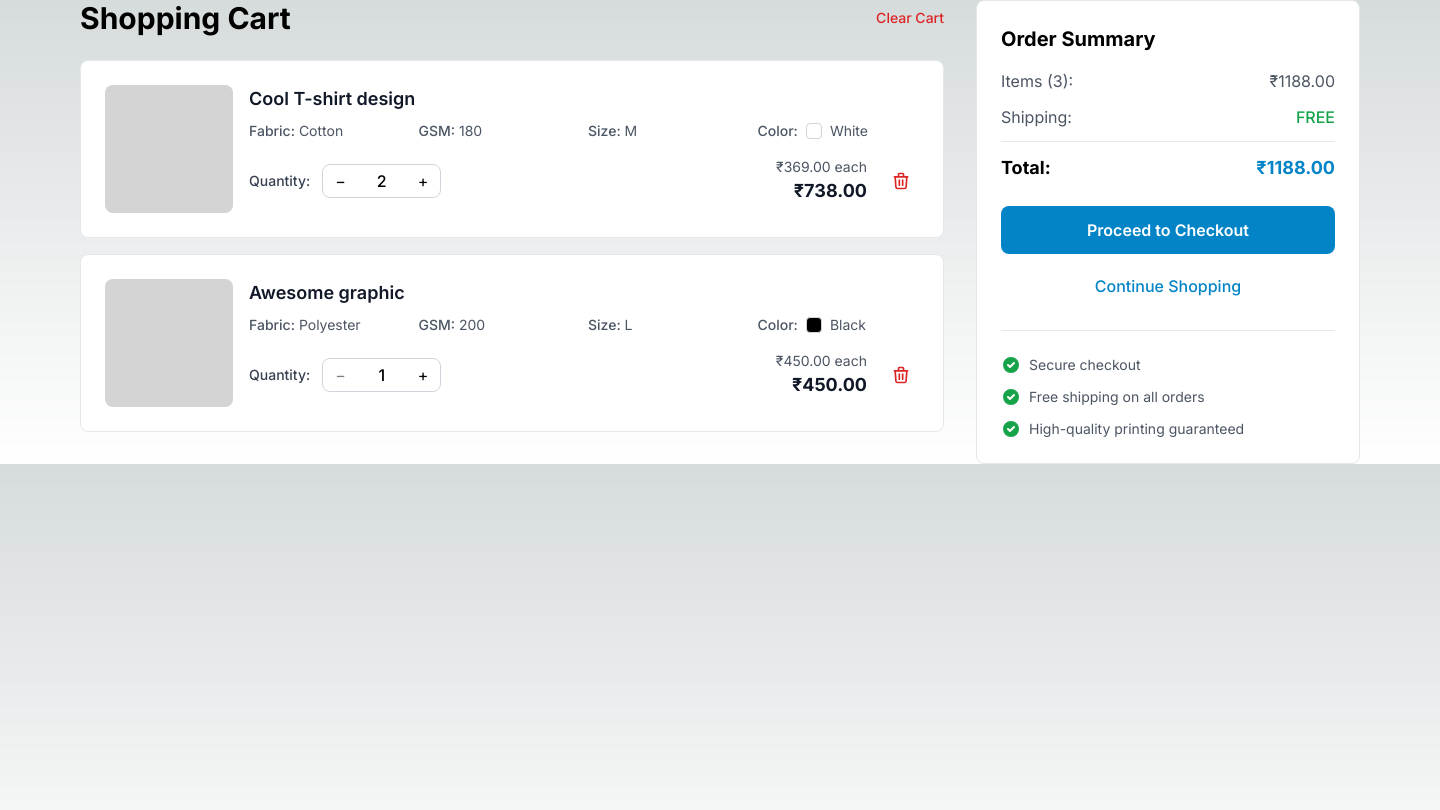
Scenario: ShoppingCart › Clear Cart › should clear cart when clear button is clicked and confirmed
The width and height of the screenshot is (1440, 810).
Expected: the heading "Shopping Cart" is shown, [80, 0, 291, 36]
Click the button "Clear Cart".
click(910, 18)  # box [876, 8, 944, 28]
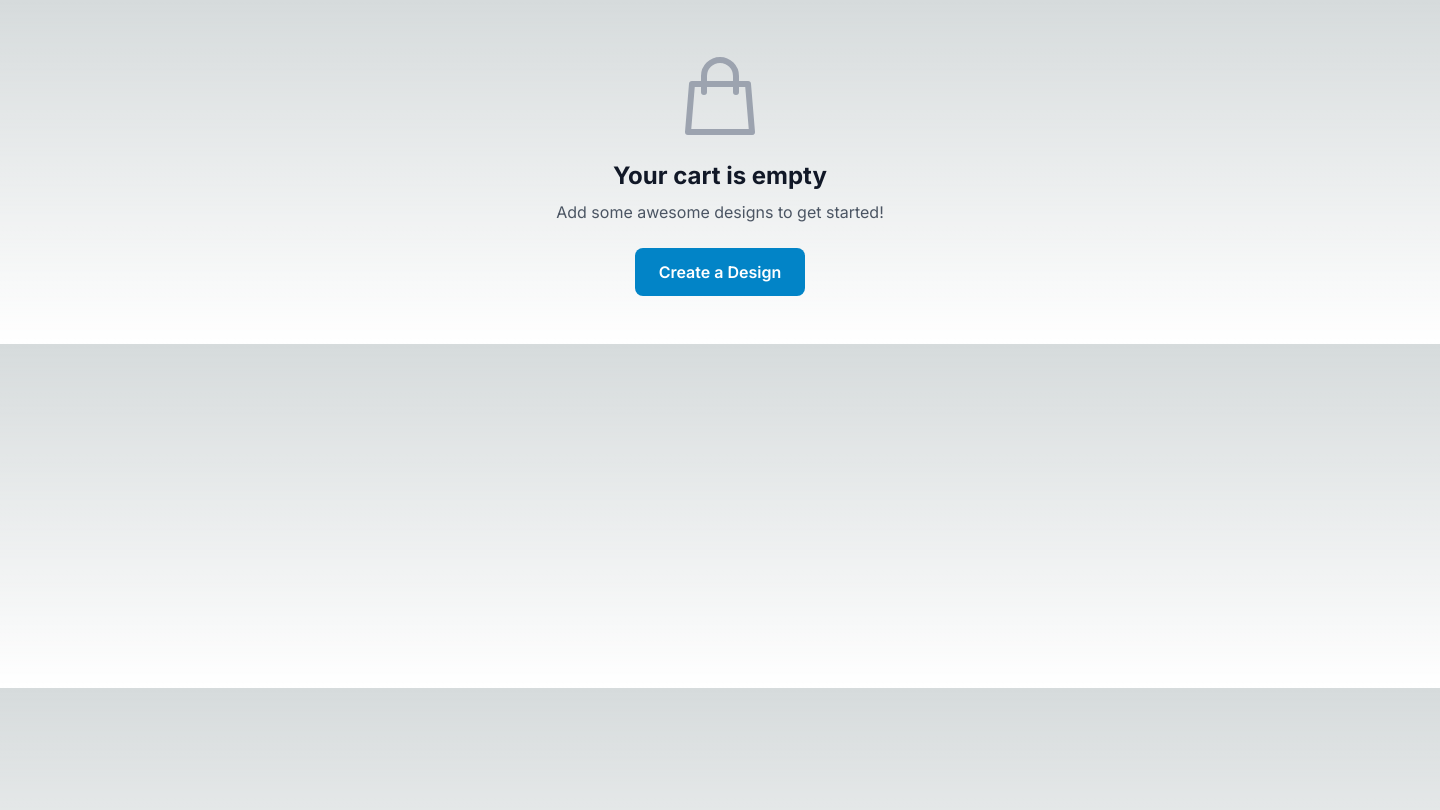
Expected: the heading "Your cart is empty" is shown, [613, 161, 827, 190]
